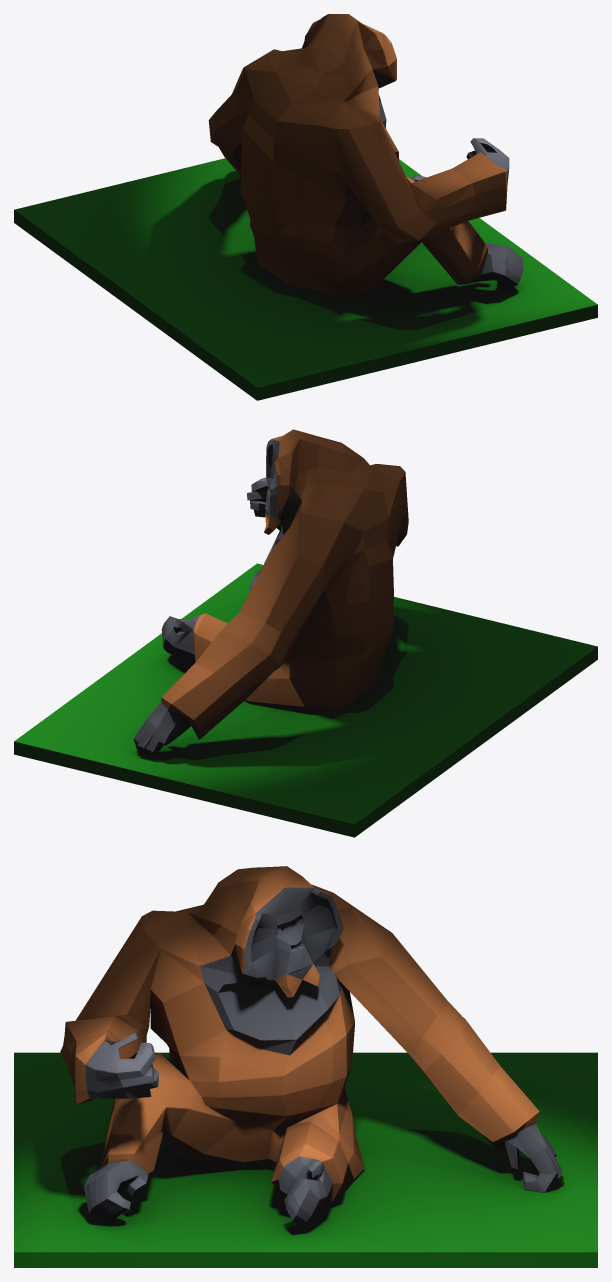
File: orangutan.glb
3 views of the same model, one above another, from view 1: azimuth 30°, elevation 25°; view 2: azimuth 150°, elevation 25°; view 3: azimuth 270°, elevation 25° (orthographic). The views are drawn at different scales.
Parts seen in each view (by area): view 1: Plane; view 2: Plane; view 3: Plane.
Part boxes in pixels (x1=…): Plane: x1=14, y1=14, x2=597, y2=400; Plane: x1=14, y1=429, x2=597, y2=837; Plane: x1=14, y1=866, x2=597, y2=1267.
Bounding box in the file's own units: 1.29 × 0.9394 × 1.6.
Materials: 1 (1 with a texture image).
